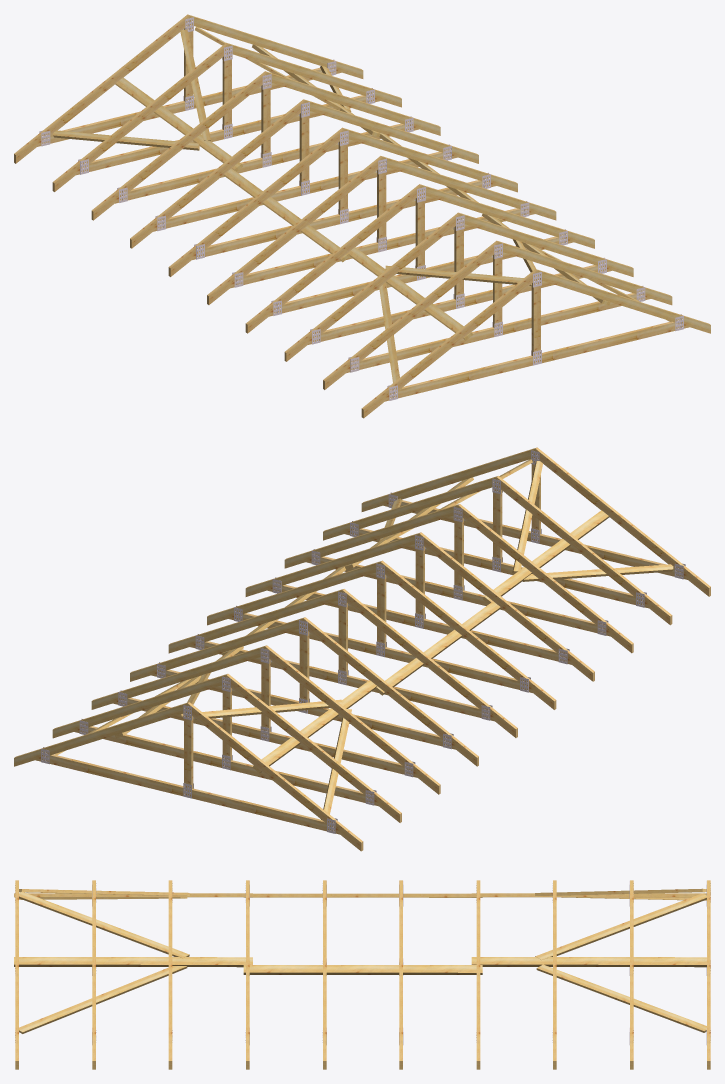
Rendered from Roof Bracing.glb.
The picture shows the model from 3 angles, top to bottom: view 1: azimuth 30°, elevation 25°; view 2: azimuth 150°, elevation 25°; view 3: azimuth 270°, elevation 25°; orthographic projection.
Visible parts, largest first — view 1: Lowplank.002, Lowplank.012, Lowplank.013, Lowplank.003, Lowplank.009, Lowplank.004, Lowplank.001, Lowplank.011, Lowplank.006; view 2: Lowplank.002, Lowplank.012, Lowplank.013, Lowplank.003, Lowplank.009, Lowplank.006, Lowplank.011, Lowplank.001, Lowplank.004; view 3: Lowplank.013, Lowplank.009, Lowplank.003, Lowplank.010, Lowplank.007, Lowplank.014, Lowplank.008, Lowplank.011, Lowplank.001, Lowplank.002, Lowplank.006.
Boxes of the visible parts, bbox=[...] form: Lowplank.002: bbox=[37, 17, 689, 401]; Lowplank.012: bbox=[14, 14, 537, 418]; Lowplank.013: bbox=[188, 14, 710, 333]; Lowplank.003: bbox=[115, 77, 473, 340]; Lowplank.009: bbox=[252, 44, 610, 305]; Lowplank.004: bbox=[53, 130, 199, 150]; Lowplank.001: bbox=[385, 265, 531, 285]; Lowplank.011: bbox=[180, 29, 210, 140]; Lowplank.006: bbox=[377, 276, 399, 382]; Lowplank.002: bbox=[35, 450, 687, 834]; Lowplank.012: bbox=[187, 447, 710, 851]; Lowplank.013: bbox=[14, 447, 536, 766]; Lowplank.003: bbox=[252, 510, 609, 772]; Lowplank.009: bbox=[114, 477, 473, 738]; Lowplank.006: bbox=[522, 564, 673, 581]; Lowplank.011: bbox=[195, 699, 341, 719]; Lowplank.001: bbox=[512, 461, 542, 573]; Lowplank.004: bbox=[321, 709, 351, 820]; Lowplank.013: bbox=[15, 880, 710, 1069]; Lowplank.009: bbox=[14, 957, 706, 974]; Lowplank.003: bbox=[14, 893, 706, 897]; Lowplank.010: bbox=[536, 964, 706, 1032]; Lowplank.007: bbox=[19, 891, 189, 958]; Lowplank.014: bbox=[535, 893, 706, 960]; Lowplank.008: bbox=[19, 966, 187, 1033]; Lowplank.011: bbox=[535, 888, 706, 895]; Lowplank.001: bbox=[19, 889, 189, 895]; Lowplank.002: bbox=[15, 881, 710, 1044]; Lowplank.006: bbox=[19, 897, 187, 899].
Bounding box in the file's own units: 5.19 × 1.51 × 9.06.
2 materials, 1 textured.
